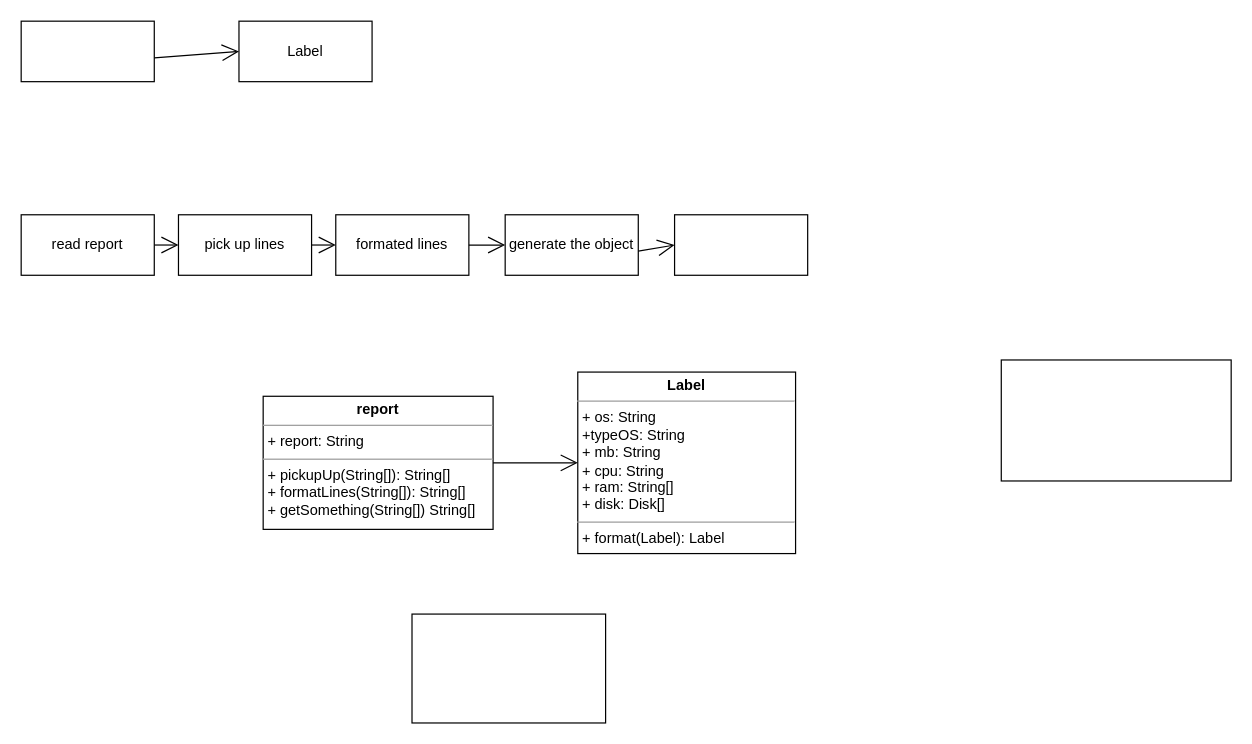
This 1252x744 diagram has some shape labels left out. The shapes that lost their labels are listed below. From the top down, each one's centre as x and y in pixels, then its label:
At (x=87, y=51): "Program".
At (x=740, y=244): "gere o arquivo".
At (x=1115, y=420): "<<Interface>> Disk + storage: String + type: String".
At (x=508, y=668): "ManageFile + file: File + FileToString(File): String +StringToFile(String):void".
